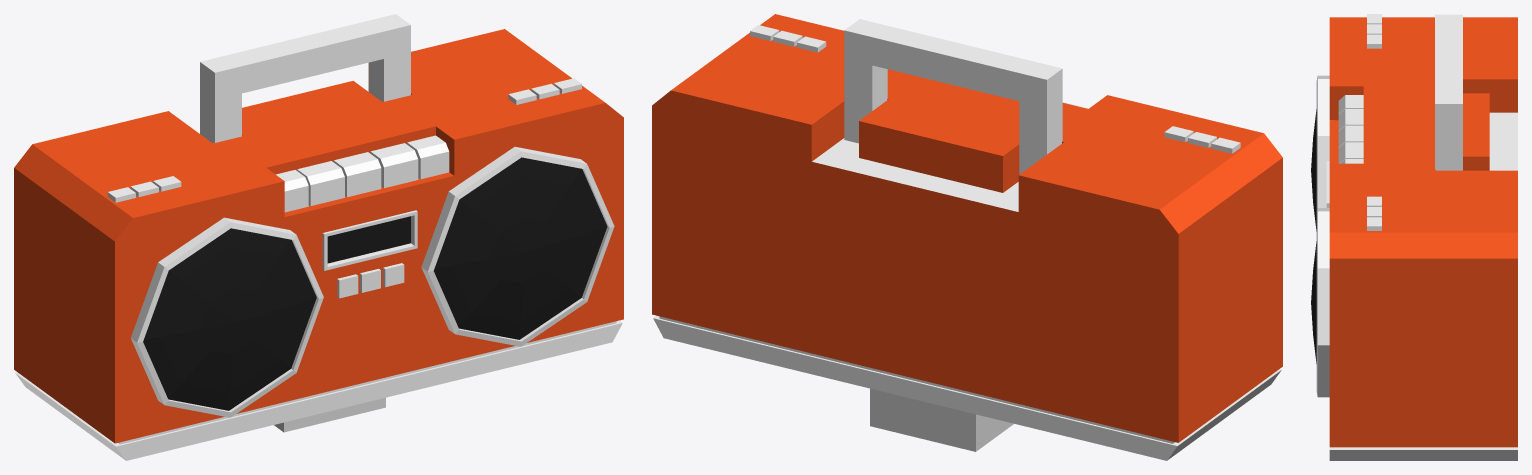
The model's file is boombox1.fbx.
3 renders of one model, left to right at view 1: azimuth 30°, elevation 25°; view 2: azimuth 150°, elevation 25°; view 3: azimuth 270°, elevation 25°, orthographic. The views are drawn at different scales.
Visible parts, largest first — view 1: Boombox_Circle.002, Cube; view 2: Boombox_Circle.002, Cube; view 3: Boombox_Circle.002.
Part boxes in pixels (box(x1,y1,x2,y2)): Boombox_Circle.002: box(14, 14, 623, 460); Cube: box(274, 397, 385, 432); Boombox_Circle.002: box(652, 14, 1282, 460); Cube: box(870, 388, 1013, 451); Boombox_Circle.002: box(1311, 14, 1517, 460).
Bounding box in the file's own units: 995 × 663 × 375.
